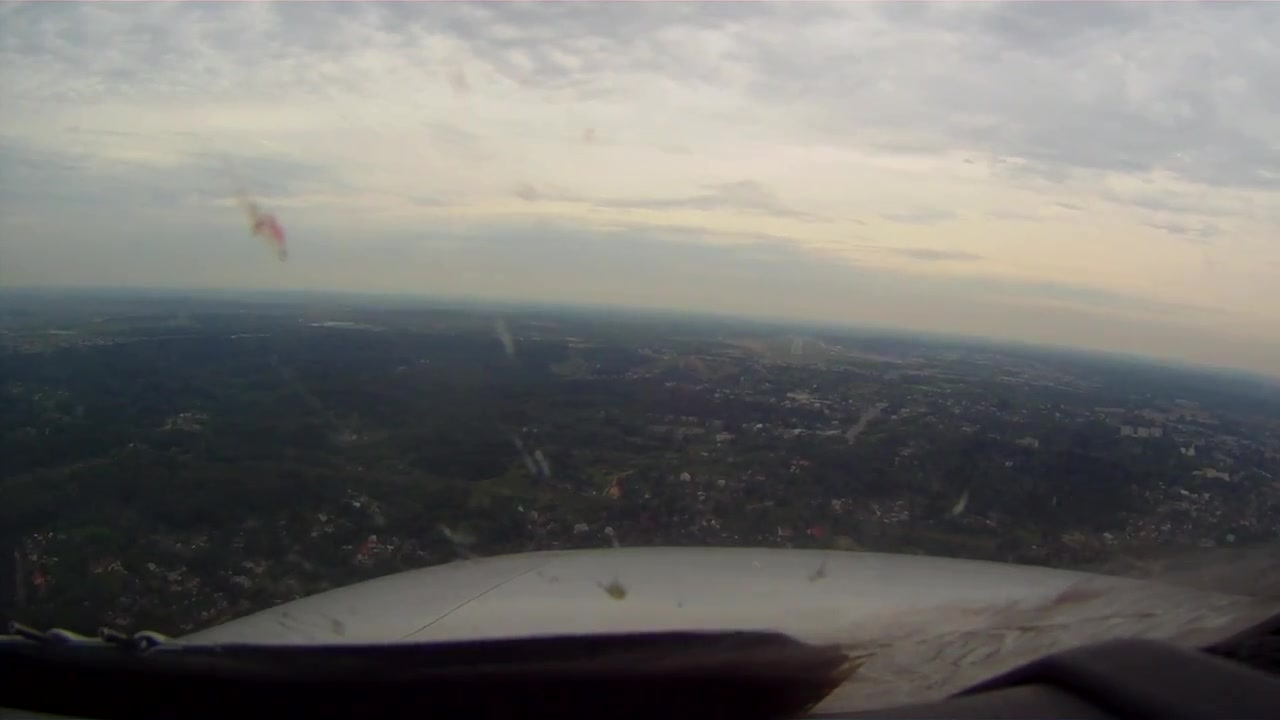runway: (789, 335, 802, 355)
